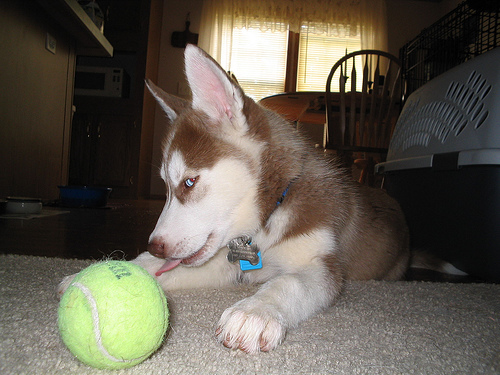dog: (57, 42, 413, 362)
